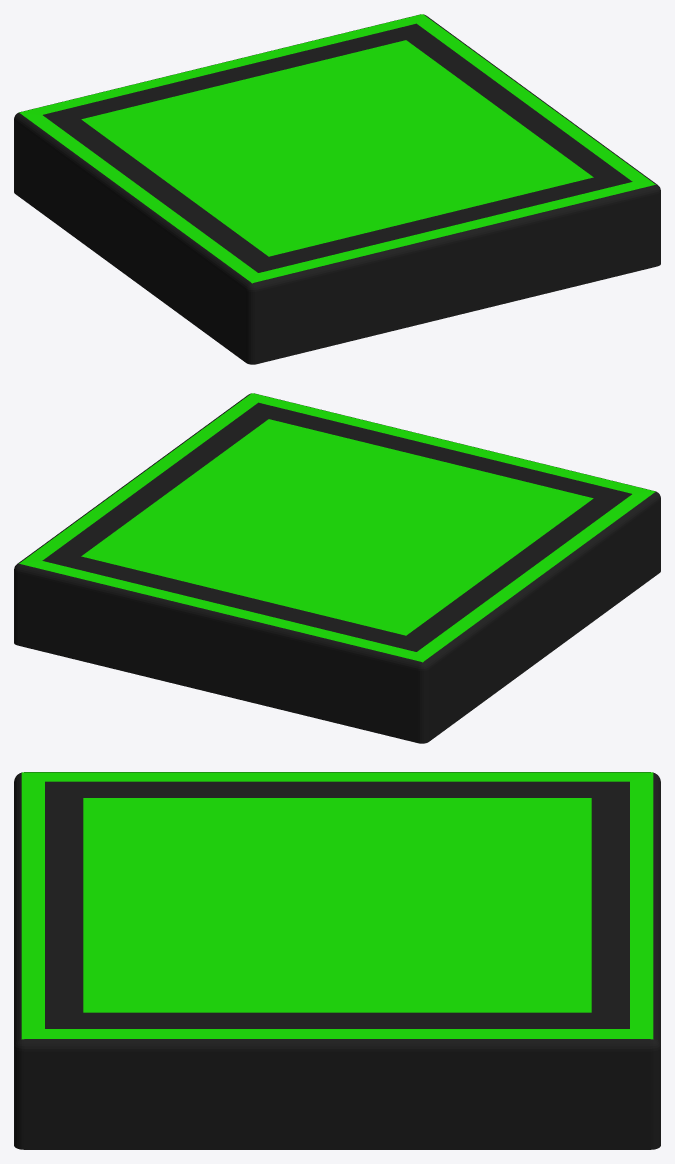
The model's file is BaseTile.glb.
3 views of the same model, one above another, from view 1: azimuth 30°, elevation 25°; view 2: azimuth 150°, elevation 25°; view 3: azimuth 270°, elevation 25° (orthographic). The views are drawn at different scales.
Visible parts, largest first — view 1: Cube; view 2: Cube; view 3: Cube.
Part boxes in pixels (x1,y1,x2,y2): Cube: (14, 14, 660, 364); Cube: (14, 393, 660, 743); Cube: (14, 772, 660, 1149).
Size of the model in its own units: 2 by 0.3677 by 2.
